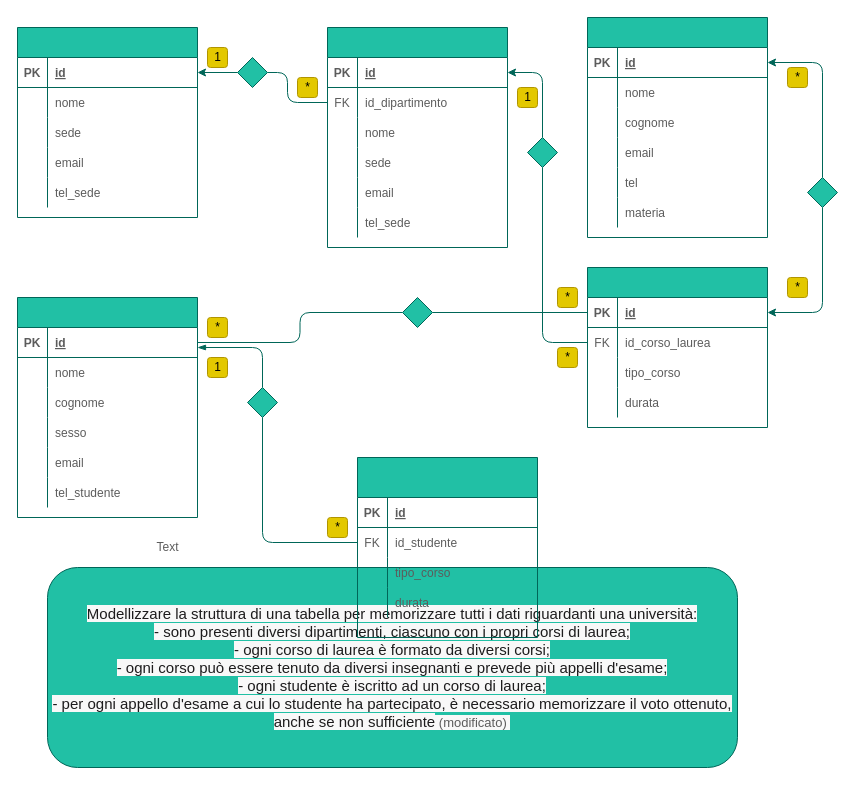
Image size: 855x785. Some labels were removed from this diagram. Here are the shapes that lost their labels. From the top down, the box of each, then its label:
(16, 26, 198, 218): Dipartimenti
(326, 26, 508, 248): Corso di Laurea
(586, 16, 768, 238): Insegnanti
(586, 266, 768, 428): Corsi
(16, 296, 198, 518): Studenti
(356, 456, 538, 638): apello
